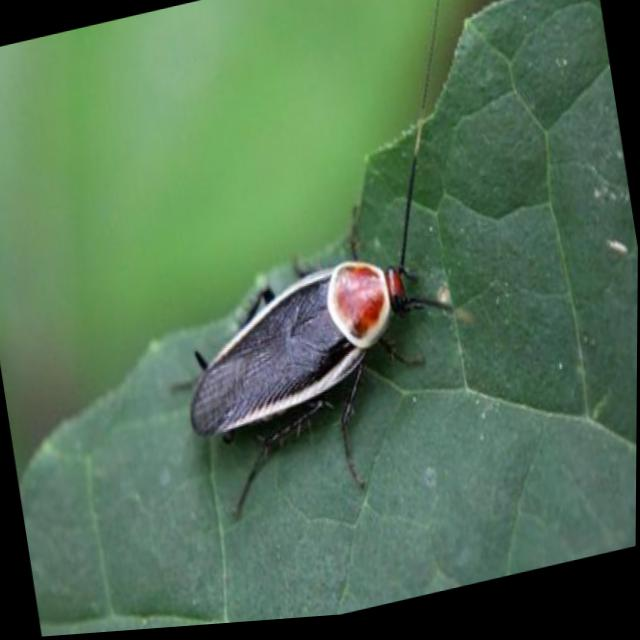Cockroach: (94, 0, 545, 577)
